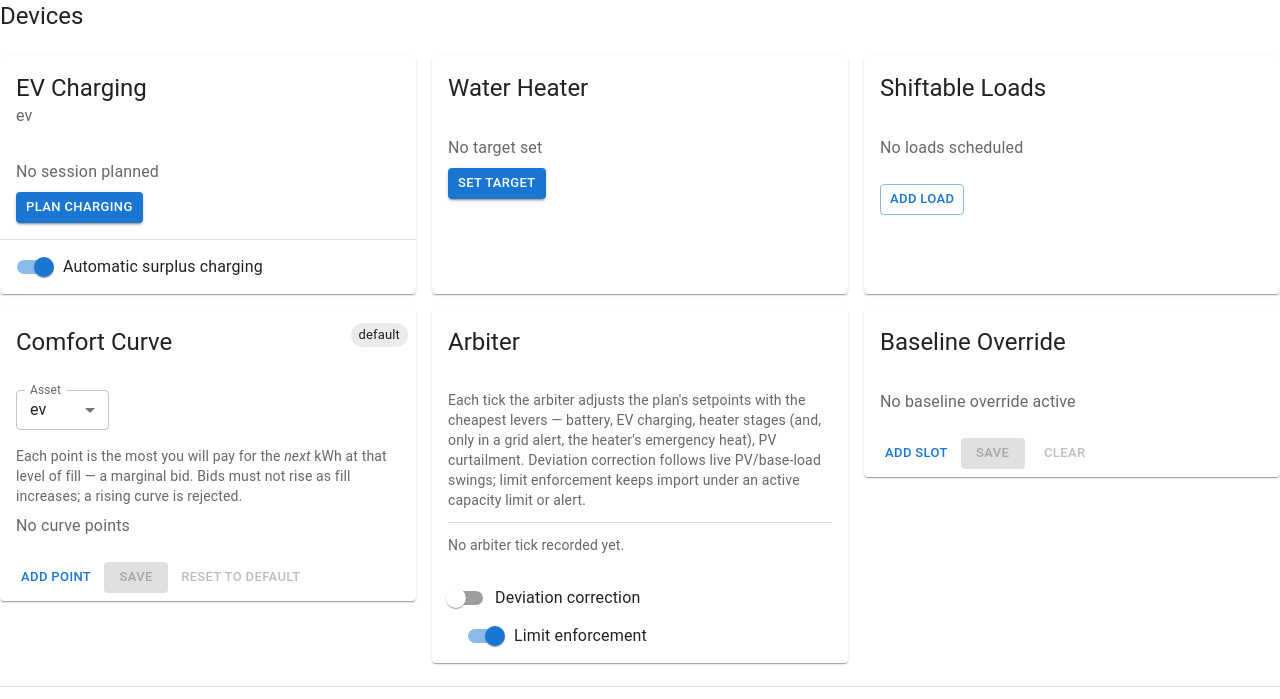
Test: DevicesPage › will not submit half a trip estimate
Click the button with test id "ev-plan-btn" at (79, 207), box [16,192,143,223]
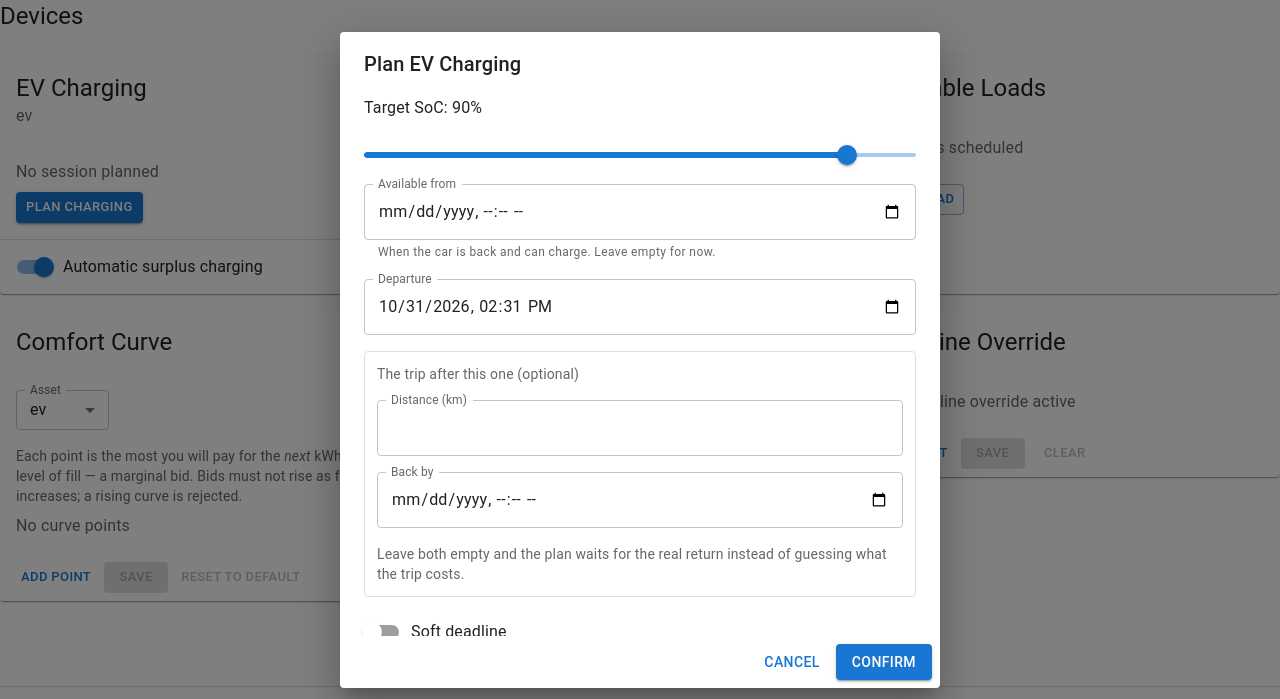
Type "150" into the number field with test id "ev-trip-distance-input" at (640, 428), box [377,400,903,456]
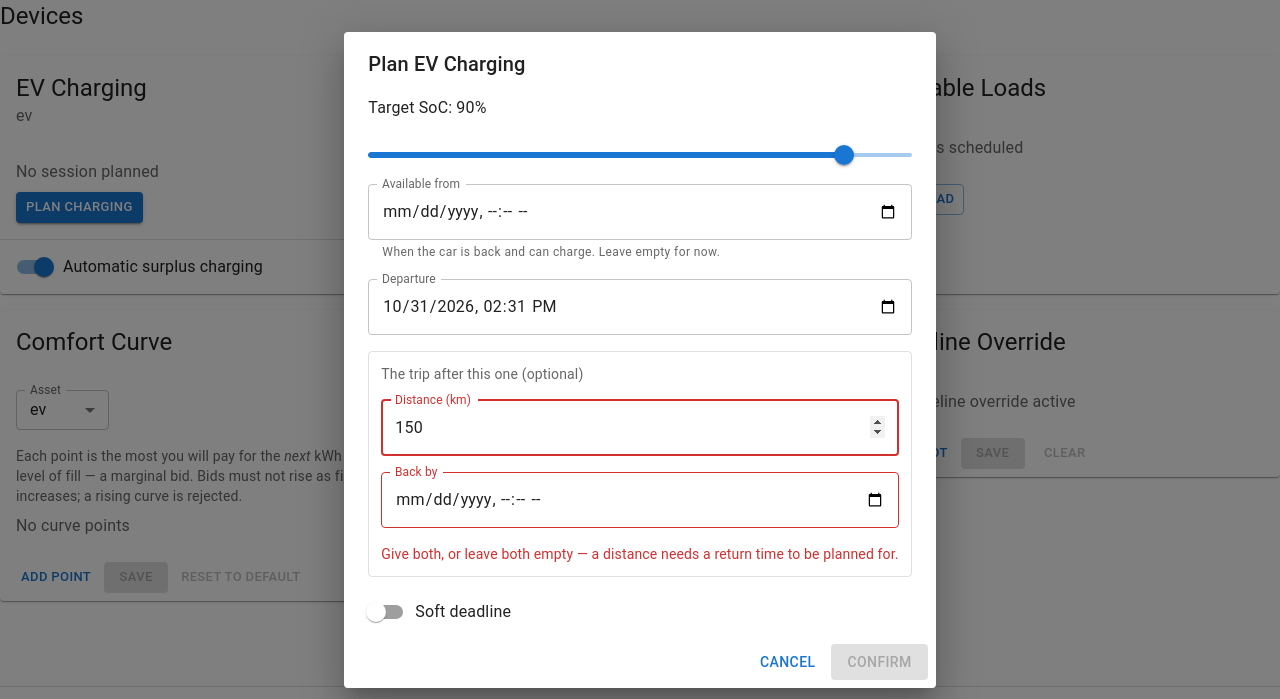
Expected: the text with test id "ev-trip-estimate-error" is shown, [381,544,899,564]
Expected: the button with test id "ev-dialog-confirm" is disabled, [831,644,928,680]
